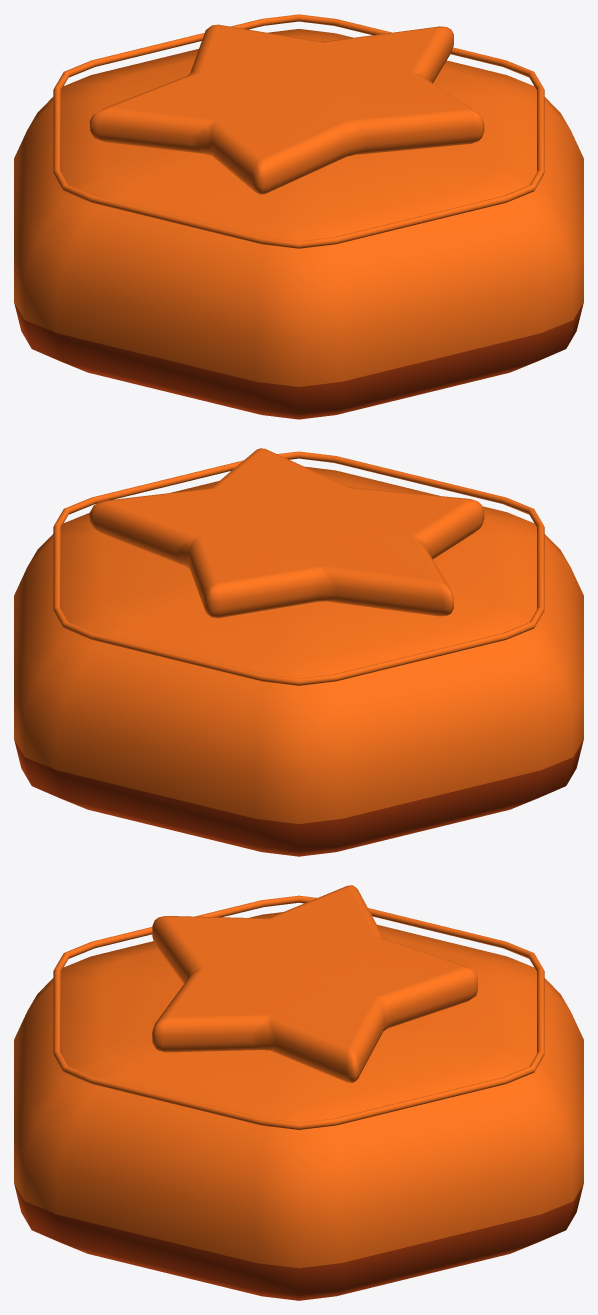
Rendered from HX_Stone_05_Orange_ToneRelief_Blank.fbx.
3 views of the same model, one above another, from view 1: azimuth 30°, elevation 25°; view 2: azimuth 150°, elevation 25°; view 3: azimuth 270°, elevation 25° (orthographic).
Parts seen in each view (by area): view 1: HX_V03_Orange_Body, HX_ToneRelief_05, HX_V03_Orange_InnerRim; view 2: HX_V03_Orange_Body, HX_ToneRelief_05, HX_V03_Orange_InnerRim; view 3: HX_V03_Orange_Body, HX_ToneRelief_05, HX_V03_Orange_InnerRim.
Boxes of the visible parts, x1=… form: HX_V03_Orange_Body: x1=14, y1=29, x2=583, y2=419; HX_ToneRelief_05: x1=89, y1=24, x2=484, y2=194; HX_V03_Orange_InnerRim: x1=53, y1=14, x2=544, y2=248; HX_V03_Orange_Body: x1=14, y1=466, x2=583, y2=856; HX_ToneRelief_05: x1=89, y1=448, x2=484, y2=618; HX_V03_Orange_InnerRim: x1=53, y1=451, x2=544, y2=685; HX_V03_Orange_Body: x1=14, y1=912, x2=583, y2=1300; HX_ToneRelief_05: x1=152, y1=885, x2=477, y2=1082; HX_V03_Orange_InnerRim: x1=53, y1=895, x2=544, y2=1129.
Bounding box in the file's own units: 75.07 × 28.4 × 67.55.
